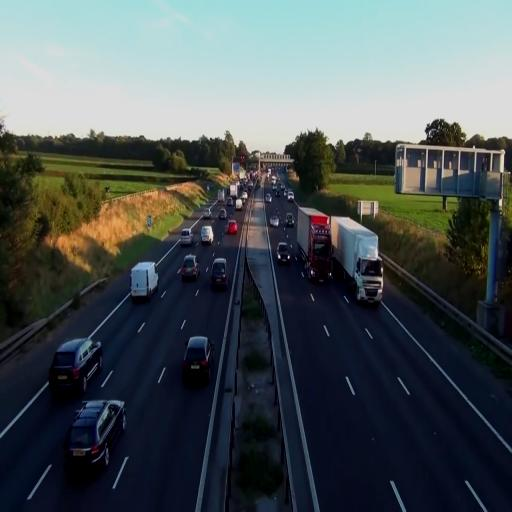vehicle: (63, 398, 127, 472), (330, 216, 383, 305), (49, 337, 103, 395), (298, 206, 332, 284), (182, 334, 212, 384), (130, 262, 158, 302), (179, 255, 200, 283), (210, 258, 228, 289), (277, 240, 292, 265), (200, 224, 214, 245), (284, 211, 296, 226)
